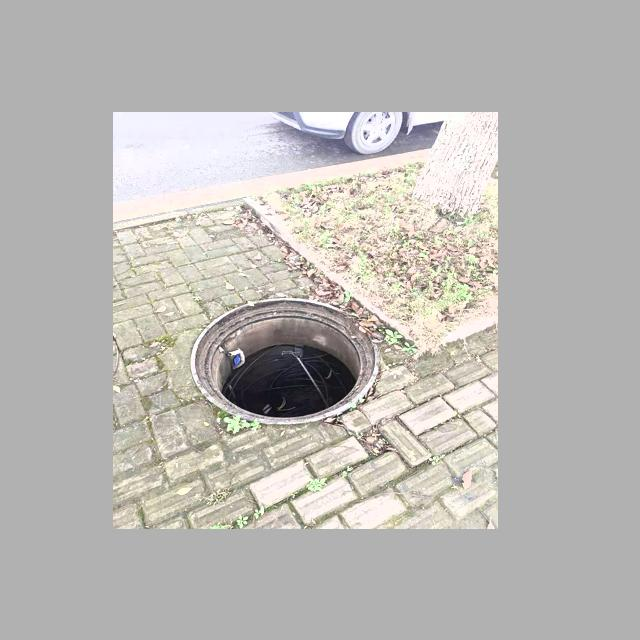lose: (192, 298, 381, 424)
